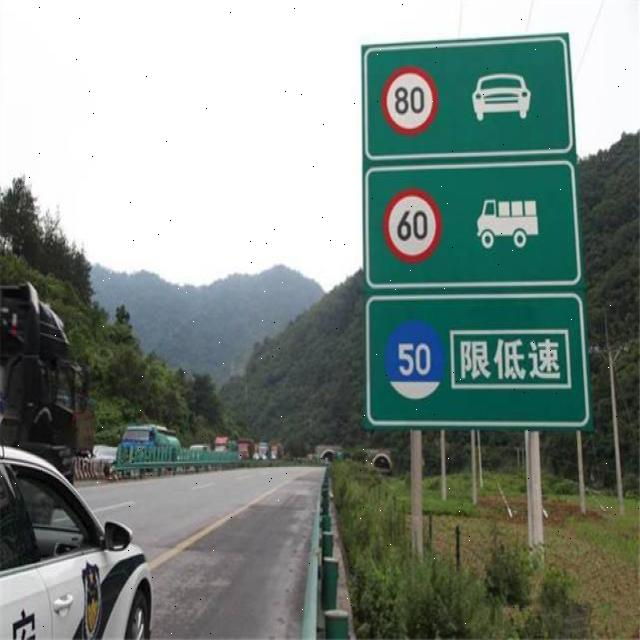speed limit 50: (386, 320, 445, 401)
speed limit 60: (384, 188, 442, 263)
speed limit 80: (383, 65, 438, 136)
